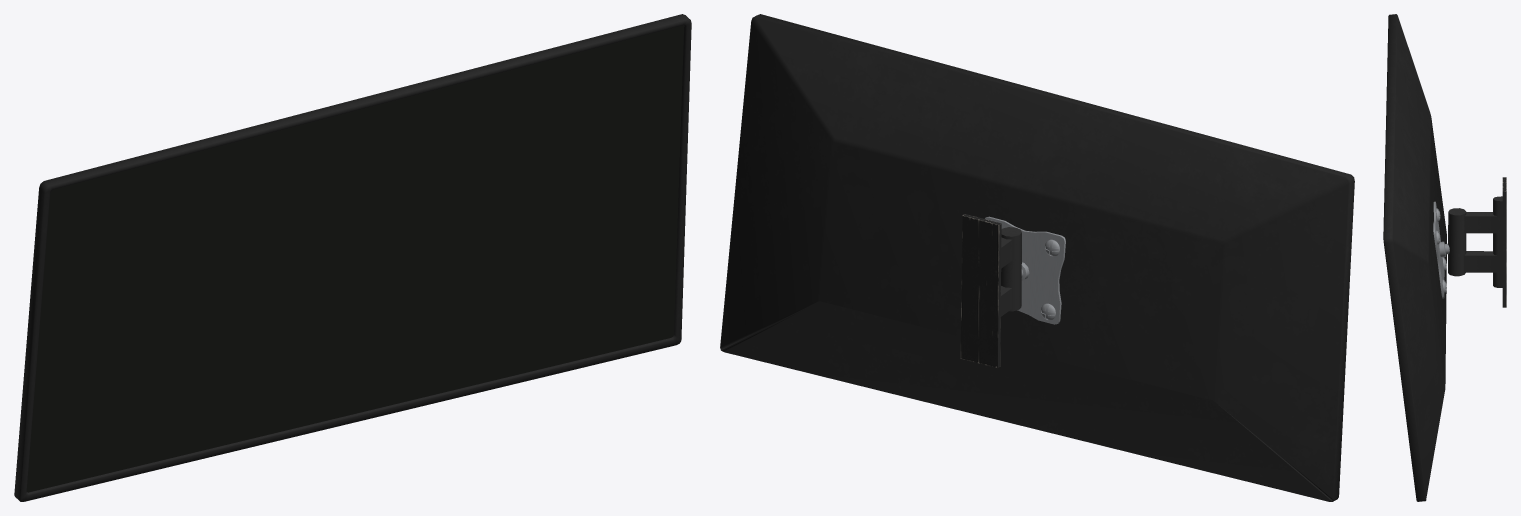
File: monitor.glb
3 renders of one model, left to right at view 1: azimuth 30°, elevation 25°; view 2: azimuth 150°, elevation 25°; view 3: azimuth 270°, elevation 25°, orthographic. The views are drawn at different scales.
Parts seen in each view (by area): view 1: screen, monitor; view 2: monitor; view 3: monitor.
Part boxes in pixels (box(x1,y1,x2,y2)): screen: box(26, 25, 683, 492); monitor: box(14, 14, 691, 501); monitor: box(720, 14, 1354, 501); monitor: box(1383, 14, 1506, 501).
Bounding box in the file's own units: 0.6718 × 0.3373 × 0.1445.
1 material, 1 textured.
